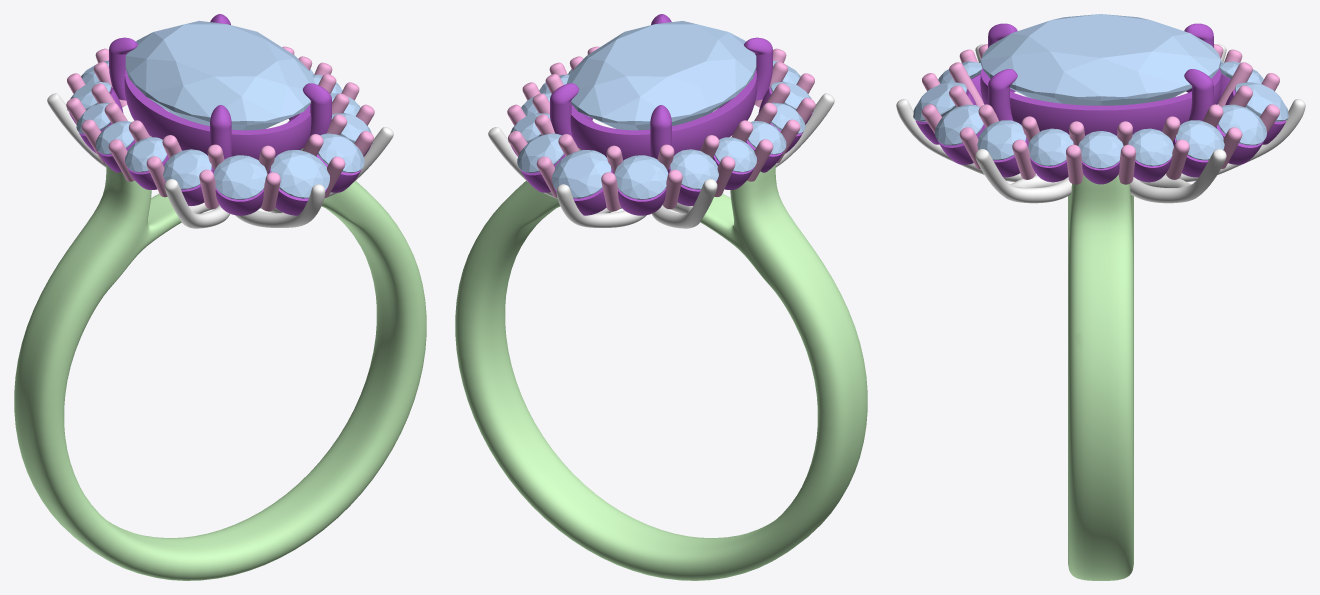
The picture shows the model from 3 angles, left to right: view 1: azimuth 30°, elevation 25°; view 2: azimuth 150°, elevation 25°; view 3: azimuth 270°, elevation 25°; orthographic projection.
Visible parts, largest first — view 1: SubD RING BUILDER, GG_Oval, Gems (×7), Bazel Gallery (×3), JU-004.3dm, PRONG HEAD BUILDER (×3), Prongs Brep (×2); view 2: SubD RING BUILDER, GG_Oval, Gems (×7), Bazel Gallery (×3), JU-004.3dm, PRONG HEAD BUILDER (×3), Prongs Brep (×2); view 3: SubD RING BUILDER, GG_Oval, Gems (×9), Bazel Gallery (×4), JU-004.3dm, Prongs Brep (×6), PRONG HEAD BUILDER (×2).
Boxes of the visible parts, x1,y1,x2,y2 form: SubD RING BUILDER: (14,148,426,580); GG_Oval: (125,20,315,130); Gems (×7): (76,102,364,199); Bazel Gallery (×3): (124,70,327,215); JU-004.3dm: (47,93,393,228); PRONG HEAD BUILDER (×3): (109,37,331,159); Prongs Brep (×2): (199,169,280,211); SubD RING BUILDER: (455,148,867,580); GG_Oval: (566,20,756,130); Gems (×7): (517,102,805,199); Bazel Gallery (×3): (554,70,757,215); JU-004.3dm: (488,93,834,228); PRONG HEAD BUILDER (×3): (550,37,772,159); Prongs Brep (×2): (601,169,682,211); SubD RING BUILDER: (1068,174,1133,580); GG_Oval: (981,14,1220,105); Gems (×9): (913,82,1288,168); Bazel Gallery (×4): (980,68,1221,184); JU-004.3dm: (896,44,1305,203); Prongs Brep (×6): (949,62,1252,184); PRONG HEAD BUILDER (×2): (988,69,1213,120).
Size of the model in its own units: 2.17 by 2.74 by 1.94.
